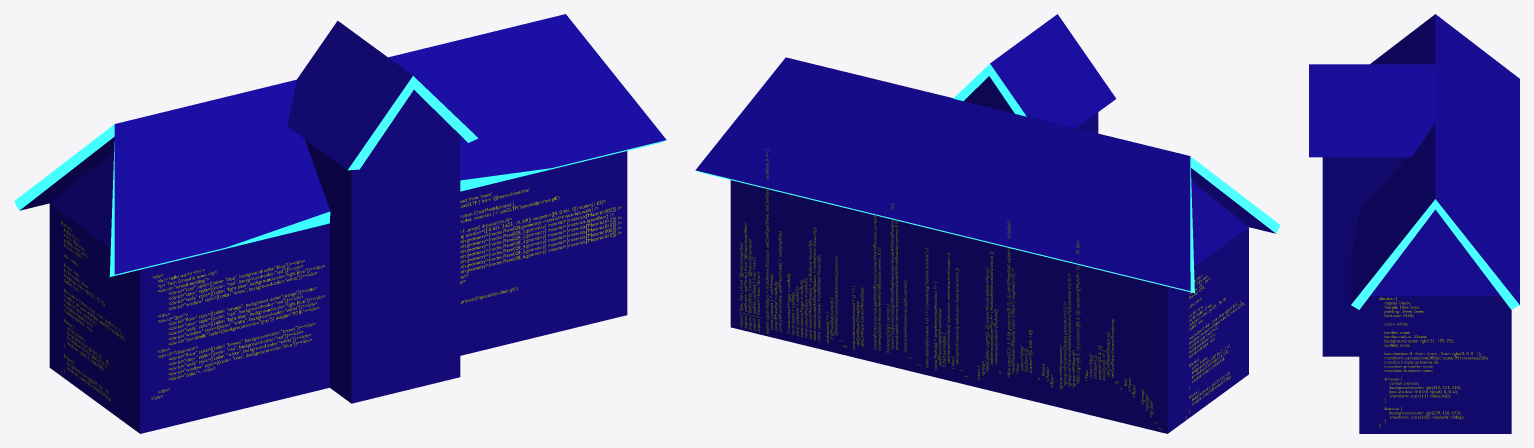
Rendered from techSchool.glb.
3 views of the same model, side by side, from view 1: azimuth 30°, elevation 25°; view 2: azimuth 150°, elevation 25°; view 3: azimuth 270°, elevation 25° (orthographic). The views are drawn at different scales.
Visible parts, largest first — view 1: Cube.001, Text, Text.001, Text.004; view 2: Cube.001, Text.003, Text.004; view 3: Cube.001, Text.002.
Boxes of the visible parts, x1,y1,x2,y2 form: Cube.001: (14, 14, 666, 433); Text: (151, 260, 324, 399); Text.001: (460, 188, 621, 304); Text.004: (60, 221, 125, 401); Cube.001: (695, 14, 1280, 433); Text.003: (739, 149, 1161, 429); Text.004: (1186, 274, 1244, 419); Cube.001: (1309, 14, 1519, 433); Text.002: (1379, 297, 1487, 427).
Size of the model in its own units: 39.51 by 21.94 by 15.54.
